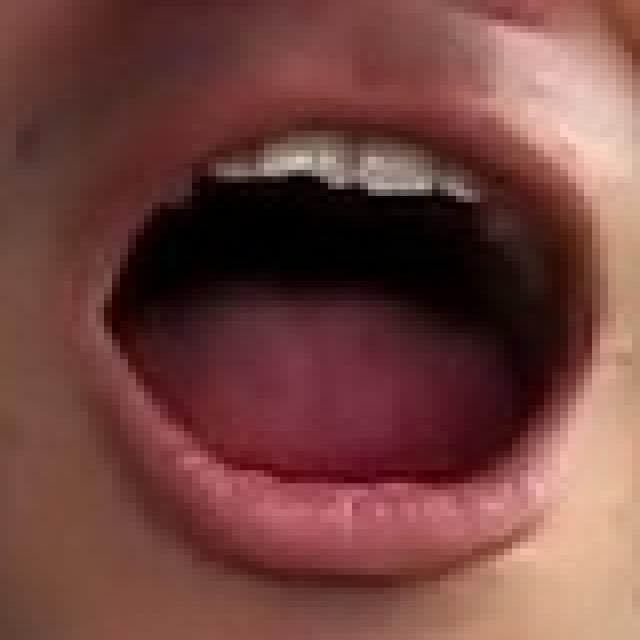open-mouth: (88, 91, 608, 575)
